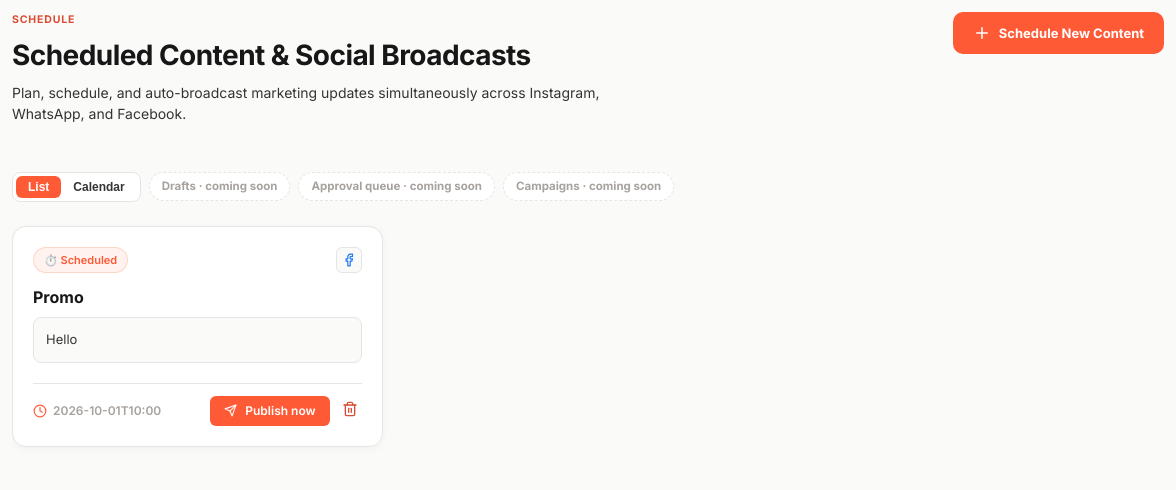
Test case: Scheduler › surfaces per-platform failure without losing the row
Click the button "Publish now" at (270, 411), box [210,396,330,426]
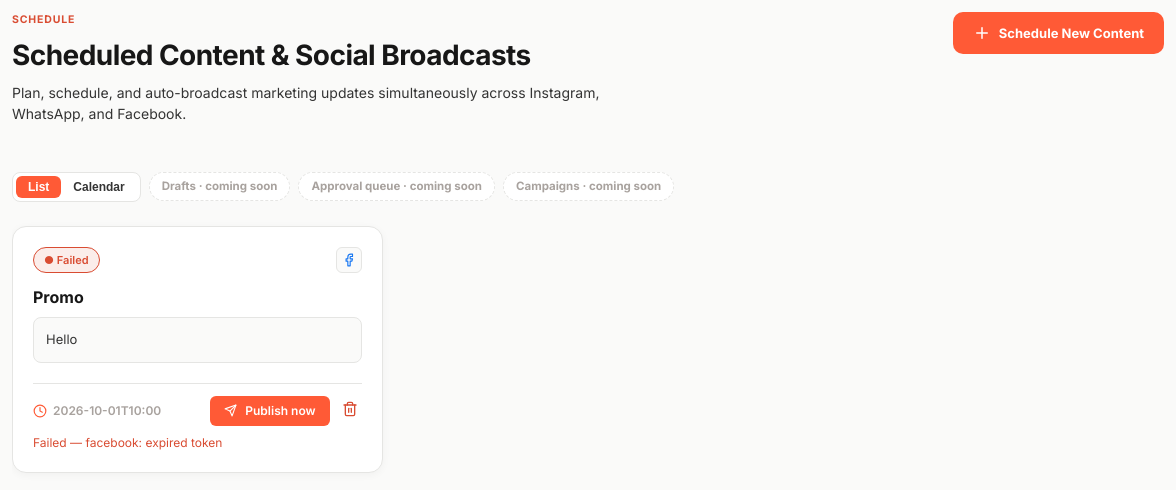
Check: the heading "Promo" is shown, box [33,287,84,307]
Check: the text "Failed — facebook: expired token" is shown, box [33,435,222,450]
Check: the text "● Failed" is shown, box [33,247,100,273]
